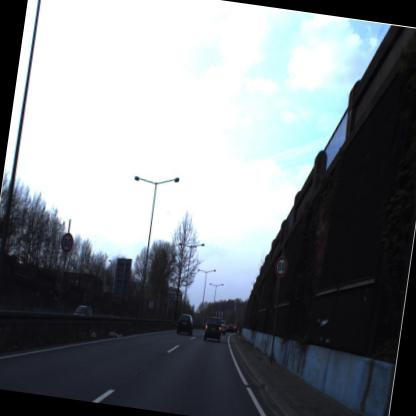prohibitory: (55, 224, 76, 260), (274, 255, 289, 279)
